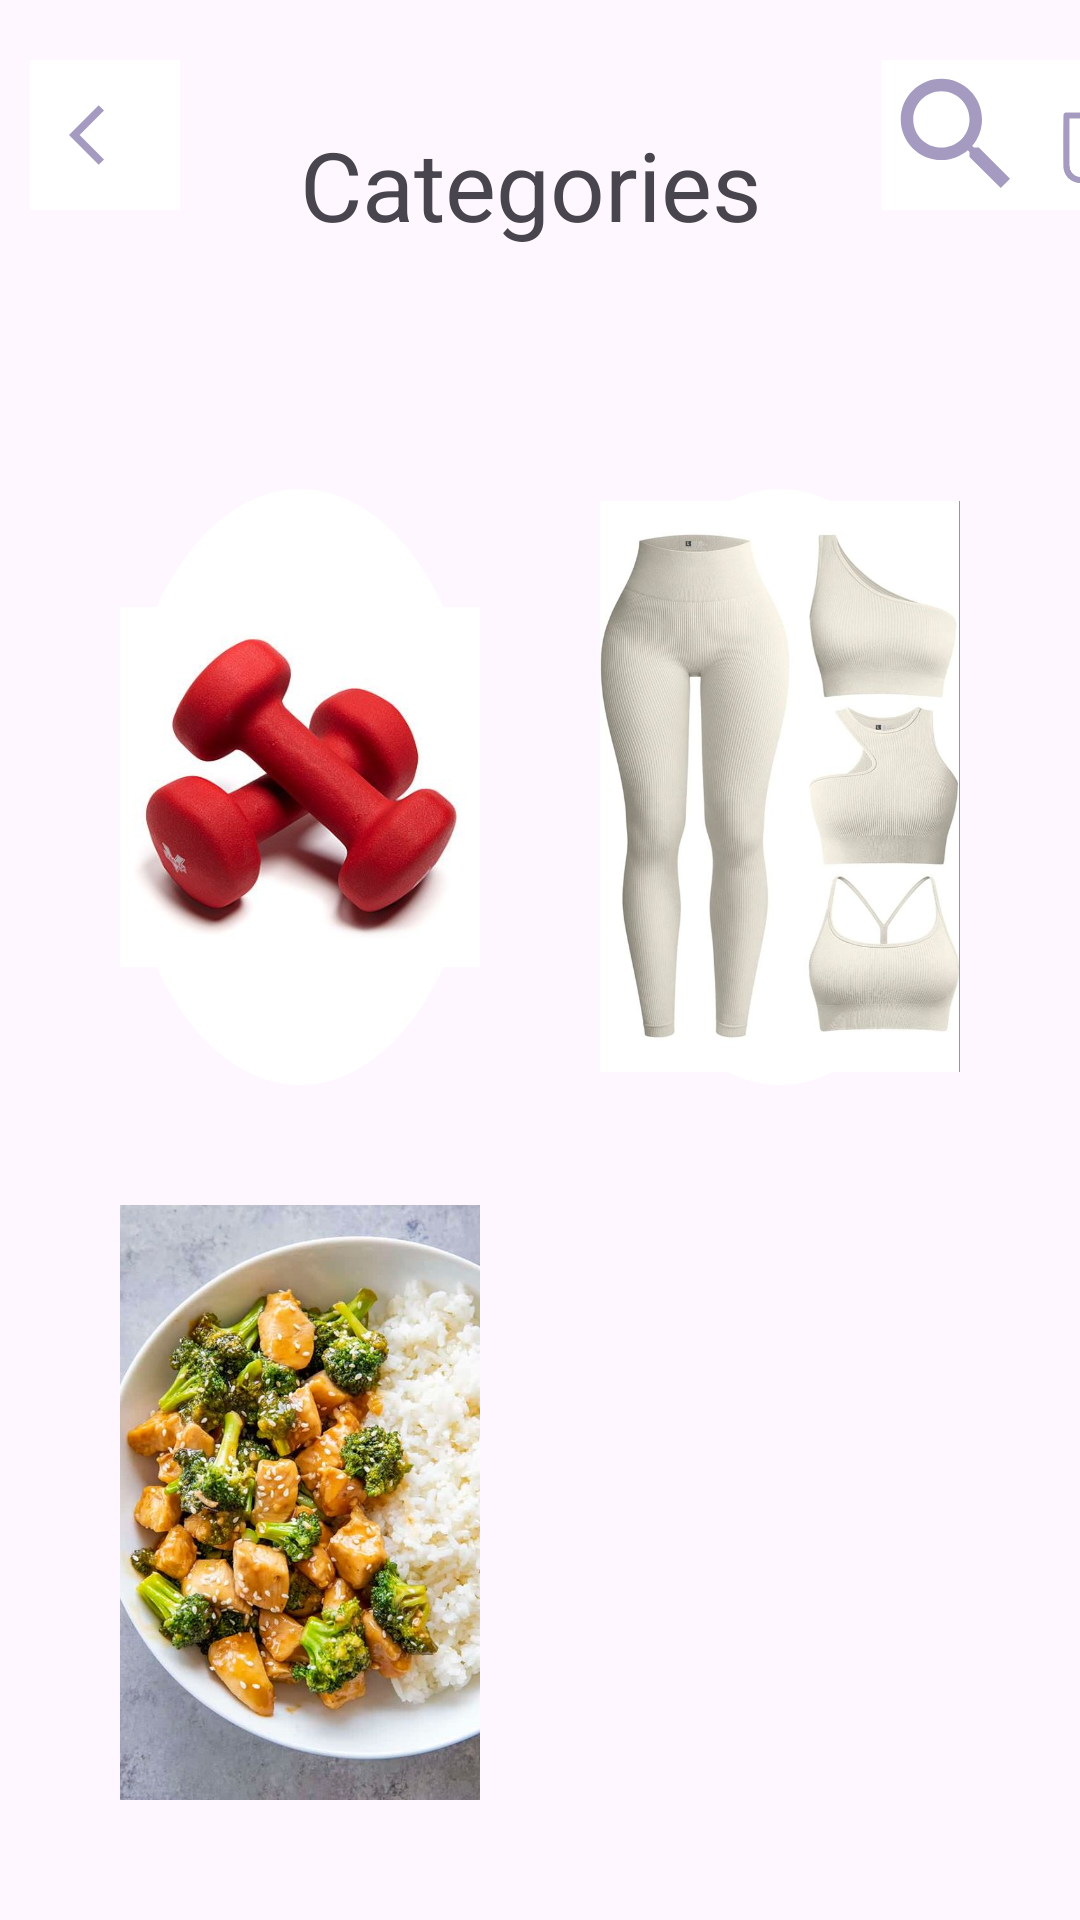

Named icons in this screenshot (1080x1920) and their centers, point (x, y):
arrow back: point (86, 135)
search: point (955, 133)
sport: point (299, 785)
